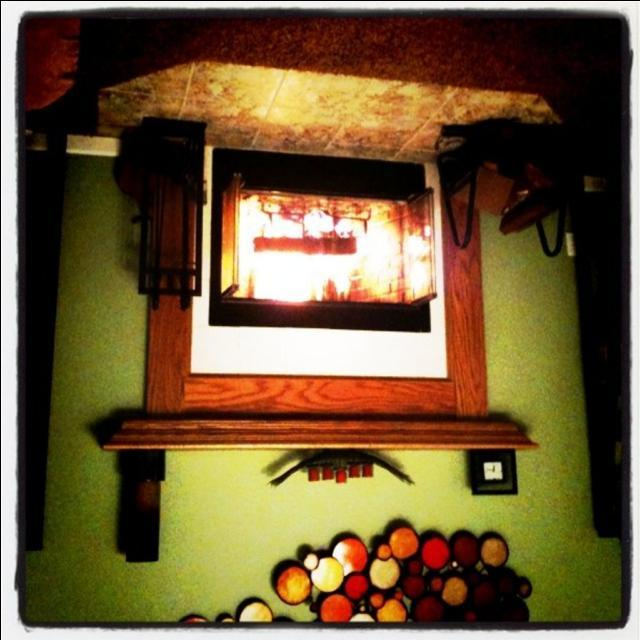Fire: (228, 193, 410, 300)
